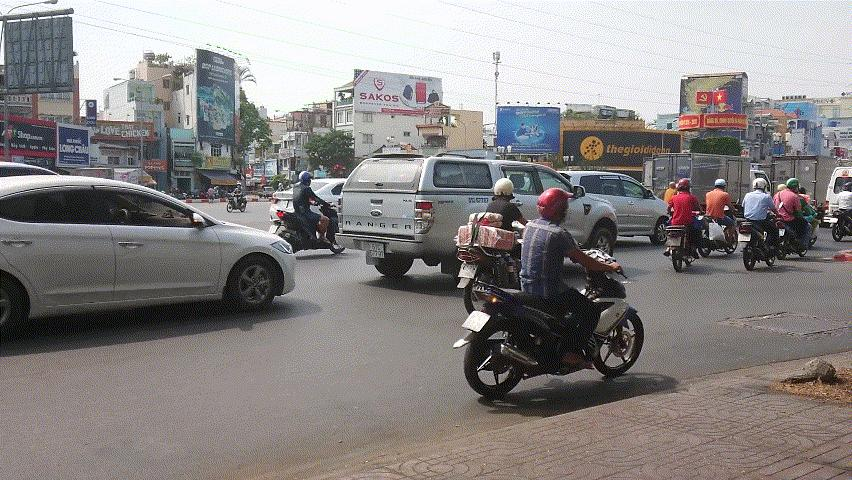driver: (455, 187, 646, 399), (453, 175, 529, 316), (275, 170, 346, 254), (738, 176, 786, 273), (664, 178, 707, 273), (773, 178, 816, 260), (698, 179, 740, 258), (829, 182, 852, 242)
helmet: (538, 187, 574, 224), (492, 176, 516, 202), (677, 178, 693, 195), (299, 171, 314, 186), (753, 178, 768, 193), (786, 178, 800, 194), (714, 179, 727, 192)
